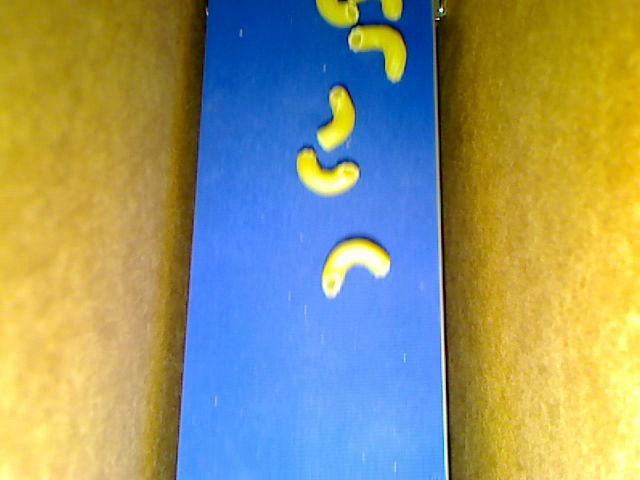elbow: (320, 238, 391, 299), (347, 23, 407, 83), (295, 148, 360, 197), (315, 85, 355, 151), (316, 1, 359, 30), (349, 1, 402, 22)
